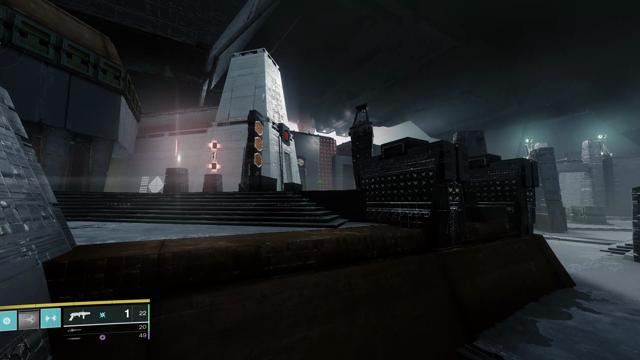brain: (297, 158, 305, 167)
stop: (284, 129, 289, 142)
